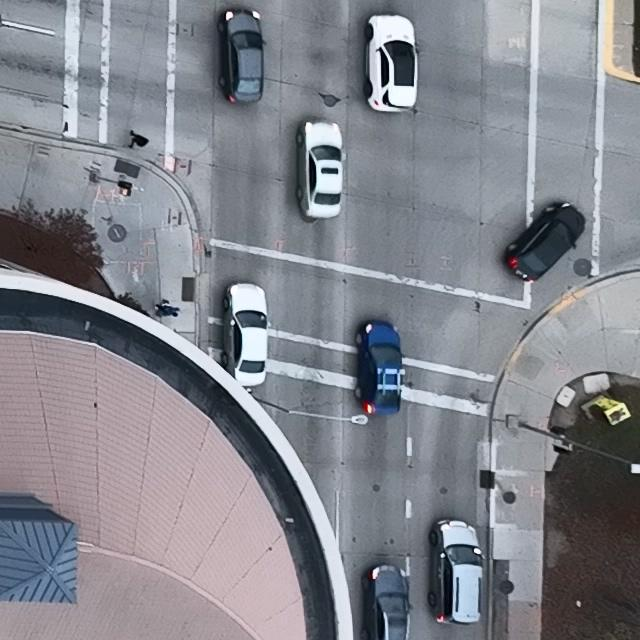car: (503, 201, 585, 283), (429, 518, 485, 624), (364, 15, 420, 112), (295, 120, 347, 221), (222, 282, 272, 385), (353, 322, 406, 415), (217, 8, 266, 103), (363, 565, 414, 640)
